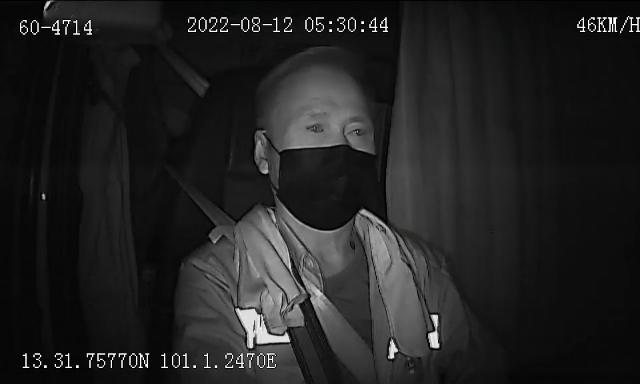SafeDriving: (340, 117, 372, 142), (300, 116, 332, 137)
Seatbelt: (174, 156, 256, 254)
